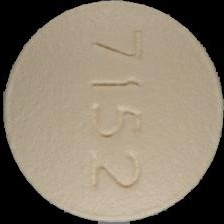68151-0177: (0, 0, 224, 224)
